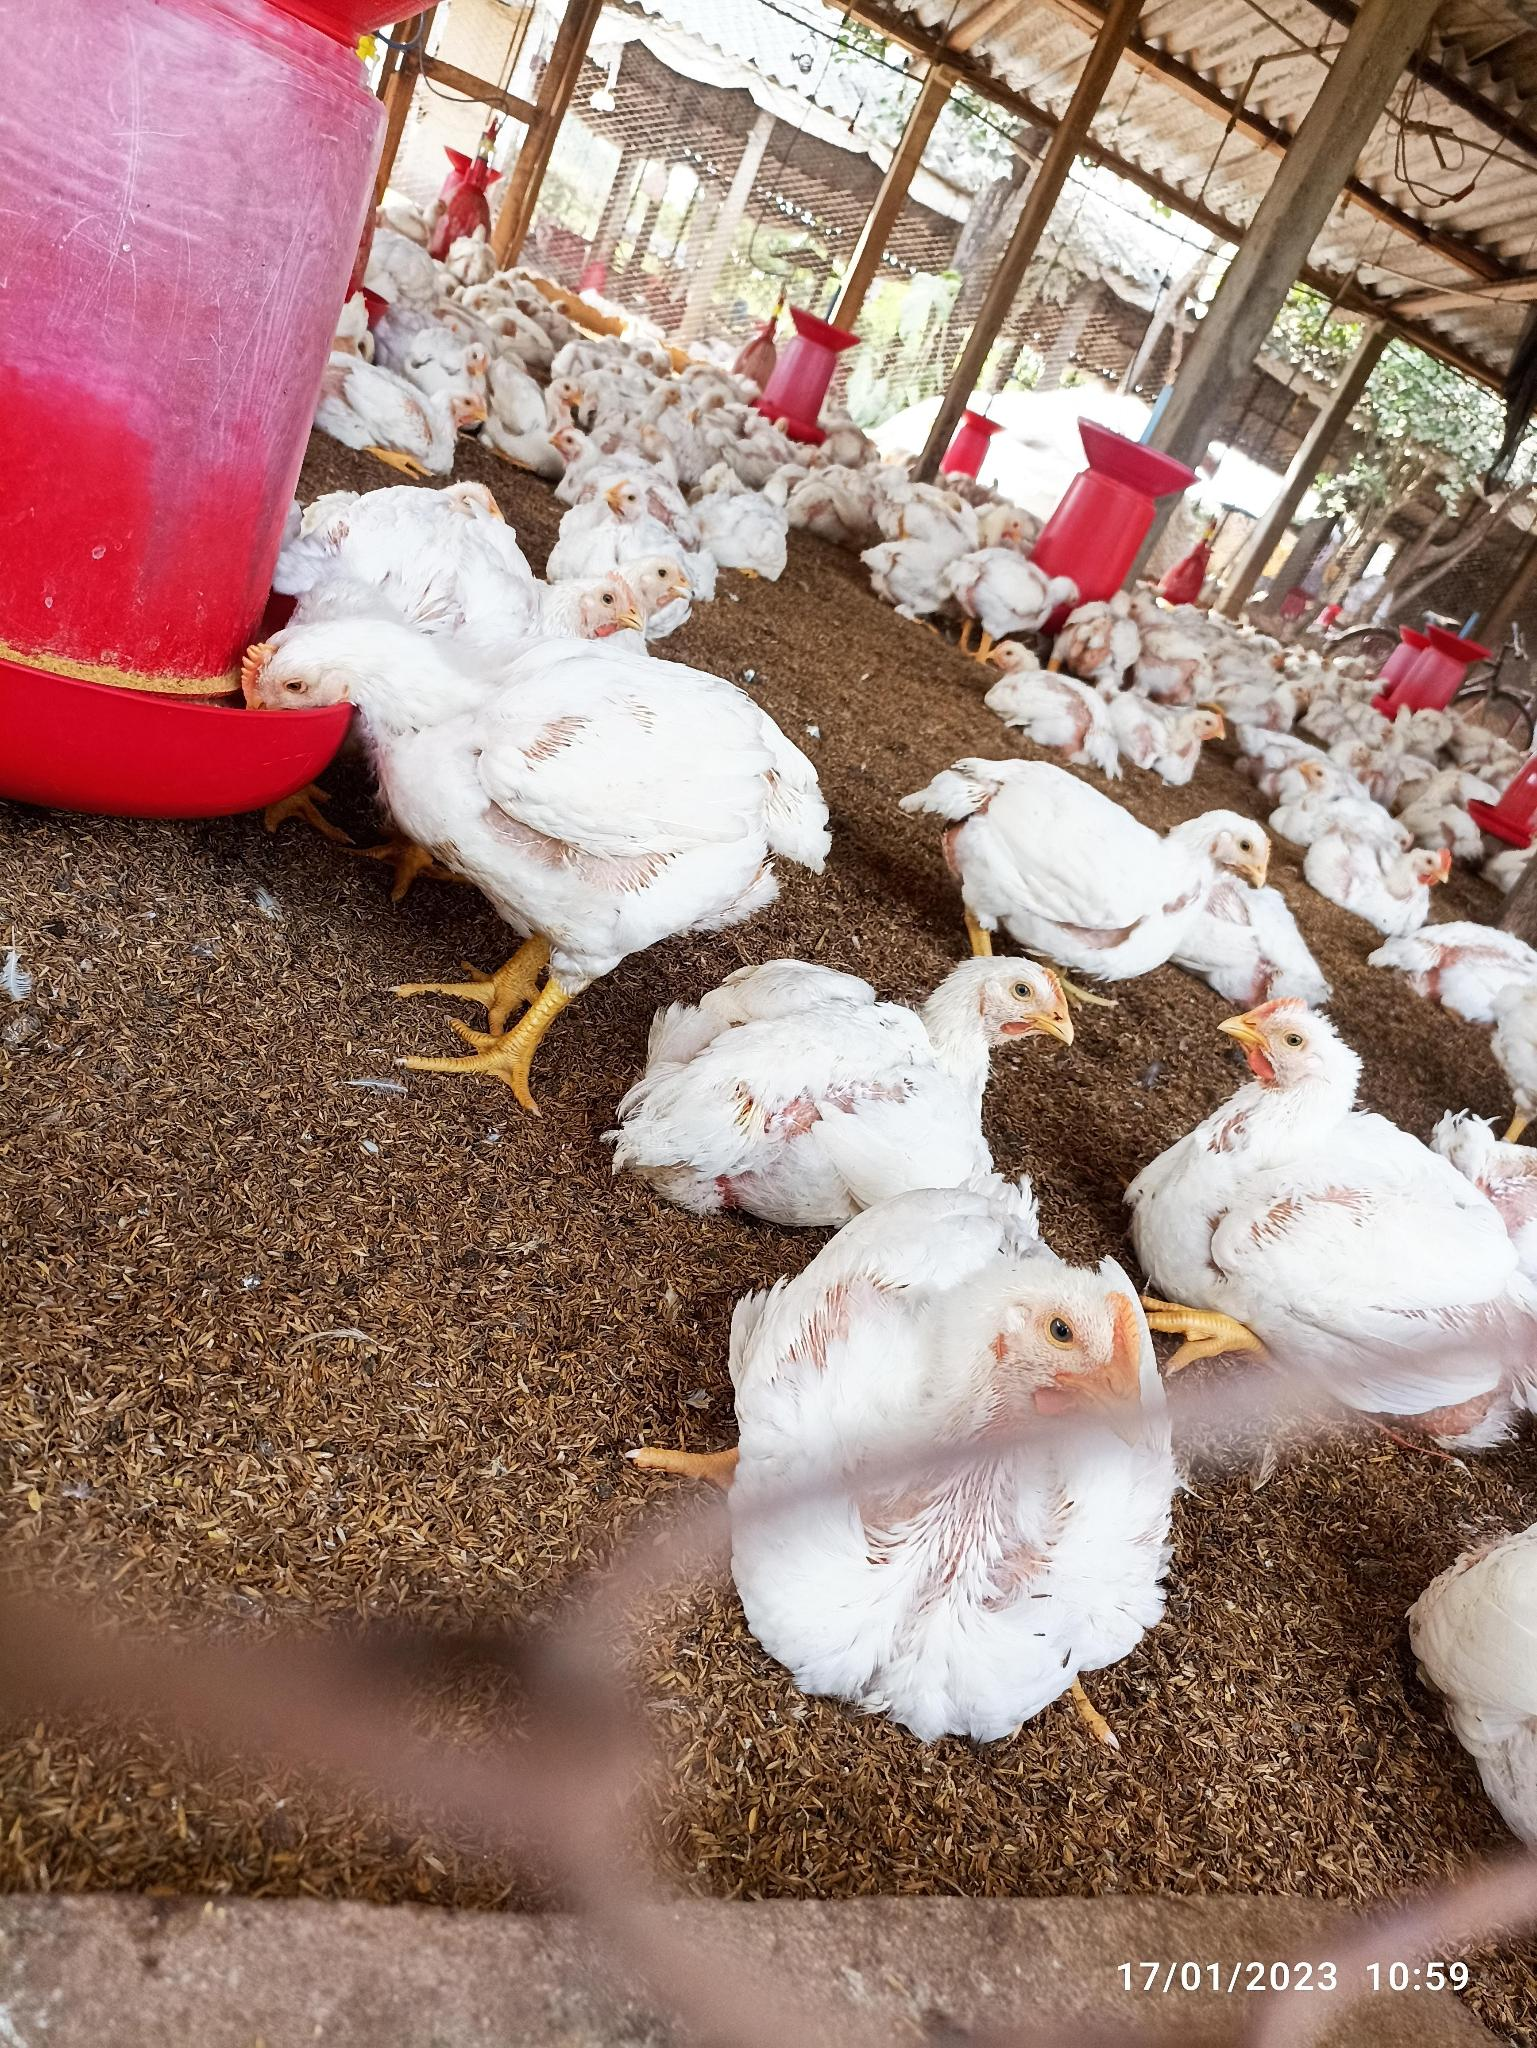Pollos: (739, 1206, 1150, 1720), (244, 616, 812, 941), (1137, 997, 1537, 1446), (602, 960, 1083, 1194), (909, 817, 1366, 951), (328, 462, 639, 641), (333, 371, 489, 478), (986, 637, 1120, 754), (1314, 828, 1442, 941), (688, 470, 785, 589), (957, 537, 1074, 636), (1256, 760, 1395, 841), (496, 376, 605, 455), (1114, 700, 1225, 770)
